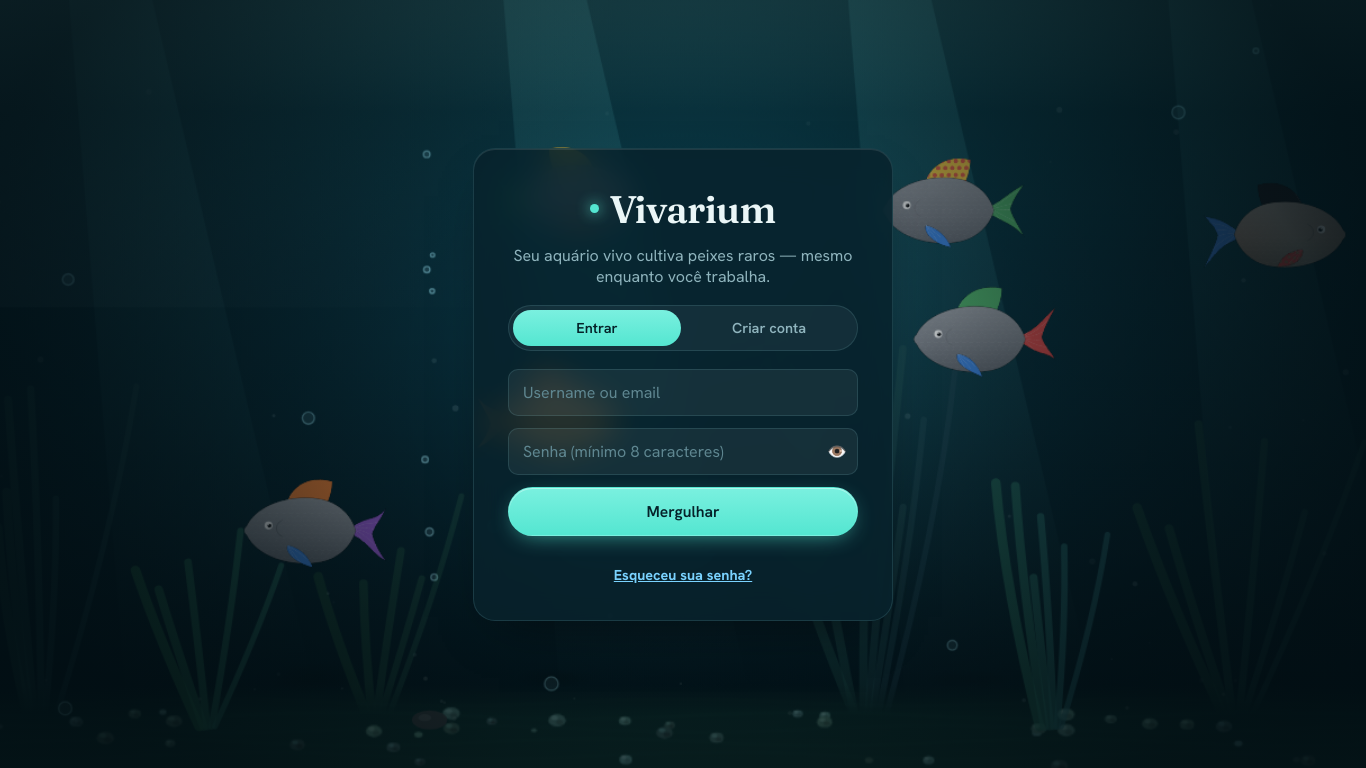
Test: Toggles de VIP (coleta/limpeza automática) › sem VIP ativo, mostra aviso de que só tem efeito com VIP
Step 1. Type "jogador1" into the field with placeholder "Username ou email" → (683, 393), box [508,369,858,416]
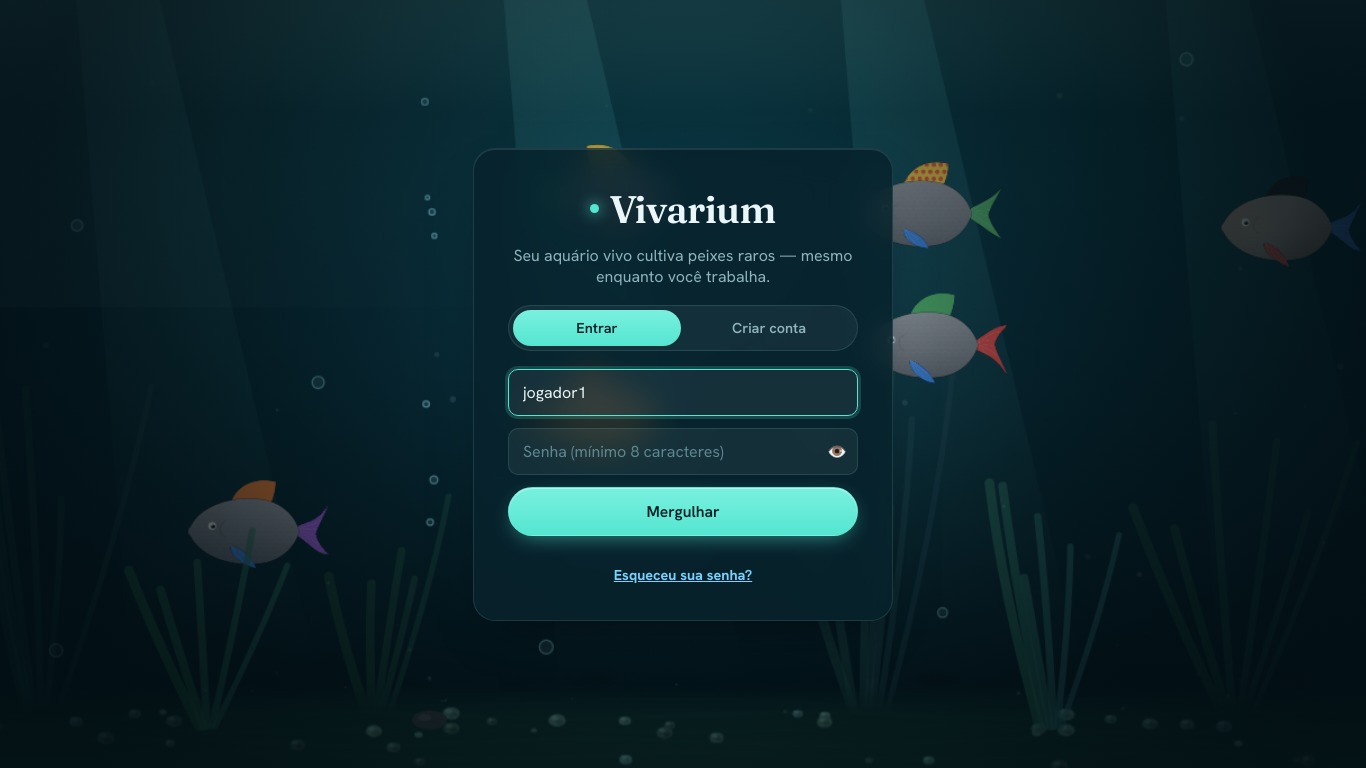
Step 2. Type "senha-forte-123" into the password field with placeholder "Senha (mínimo 8 caracteres)" → (683, 452), box [508,428,858,475]
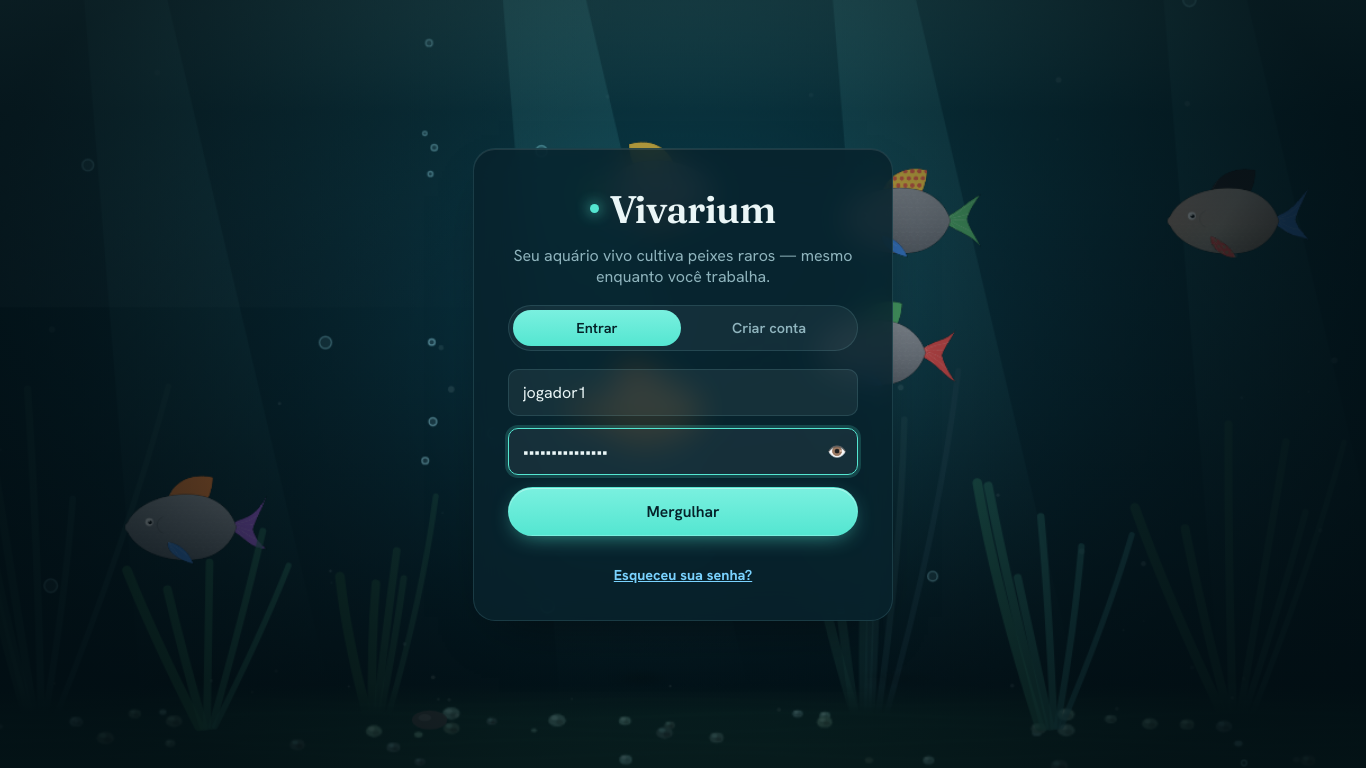
Step 3. Click the button "Mergulhar" → click(683, 512), box [508,487,858,536]
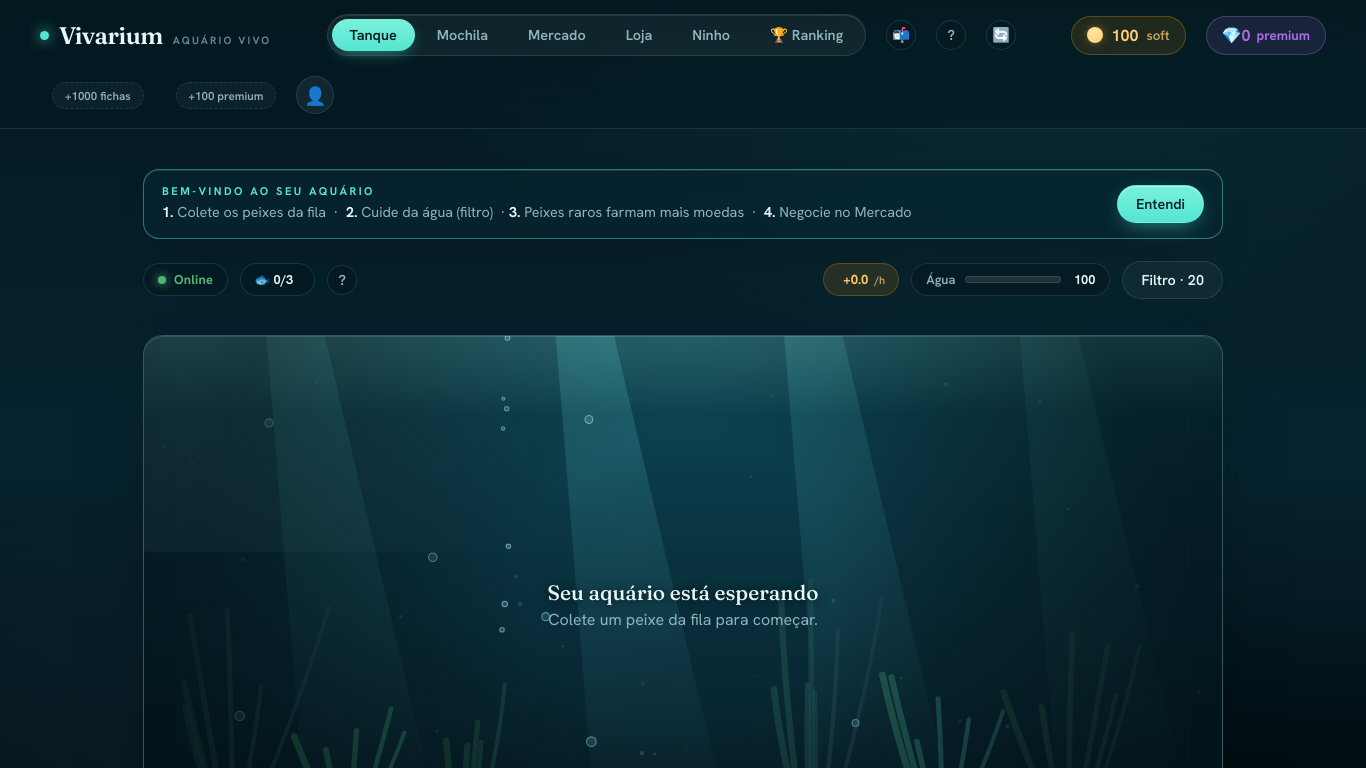
Step 4. Click the button "Loja" → click(640, 35), box [608,19,671,51]
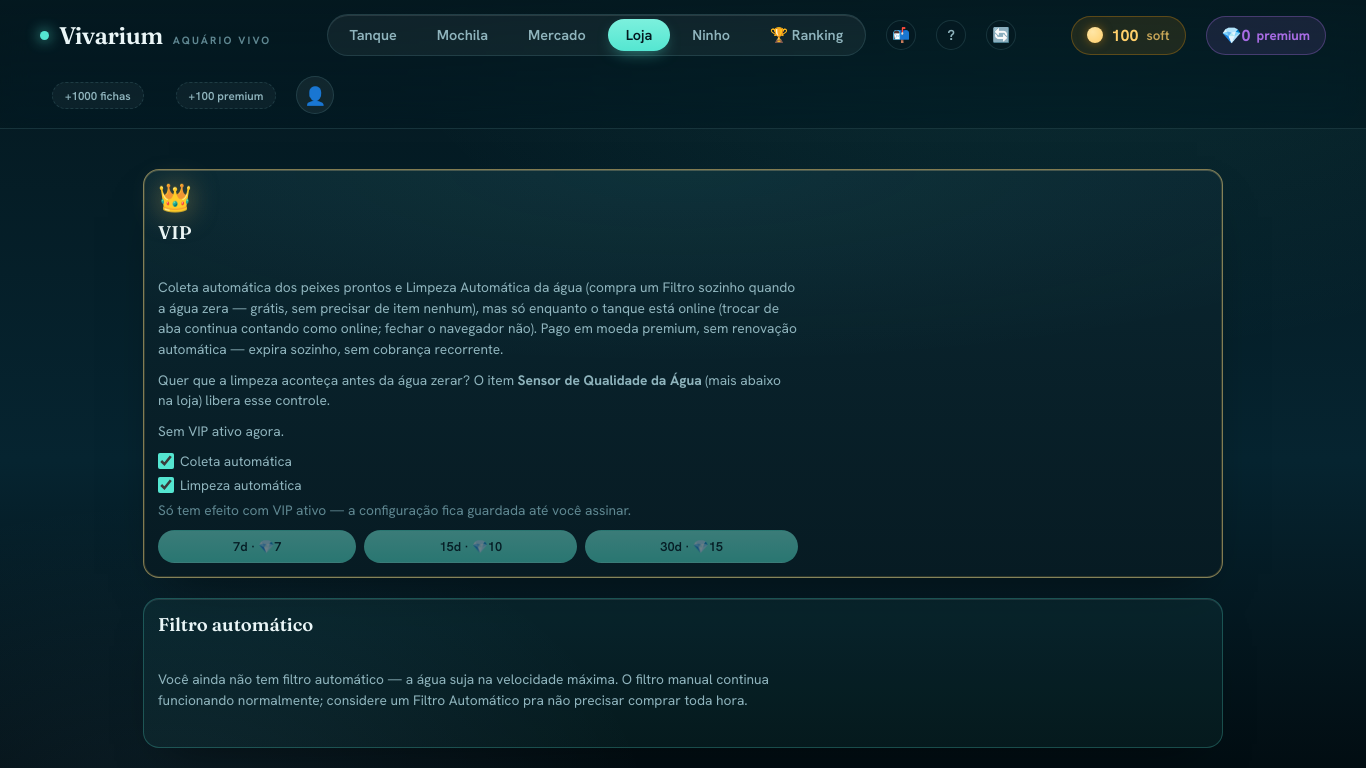
Expected: the text "Só tem efeito com VIP ativo" is shown, [158,501,631,519]
